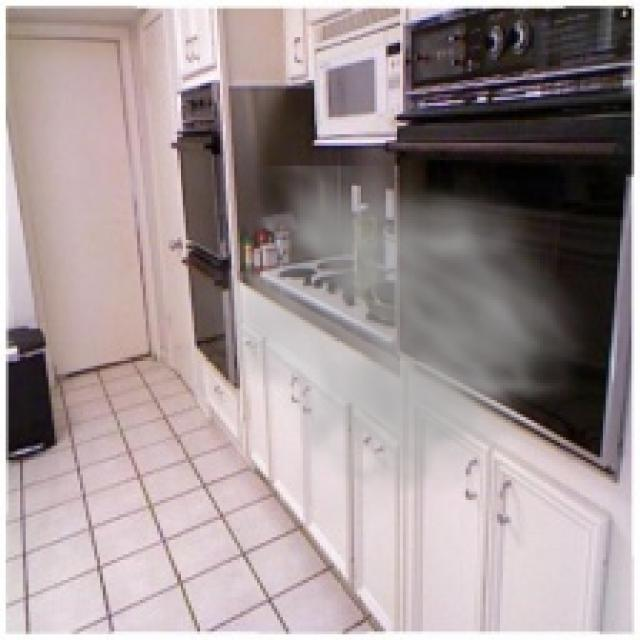smoke: (194, 166, 600, 531)
